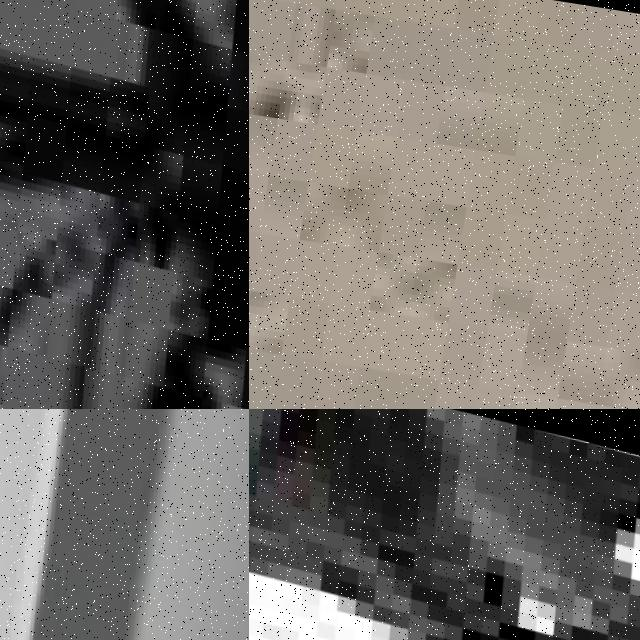drone: (0, 0, 249, 409), (249, 409, 640, 640), (0, 409, 249, 640)
